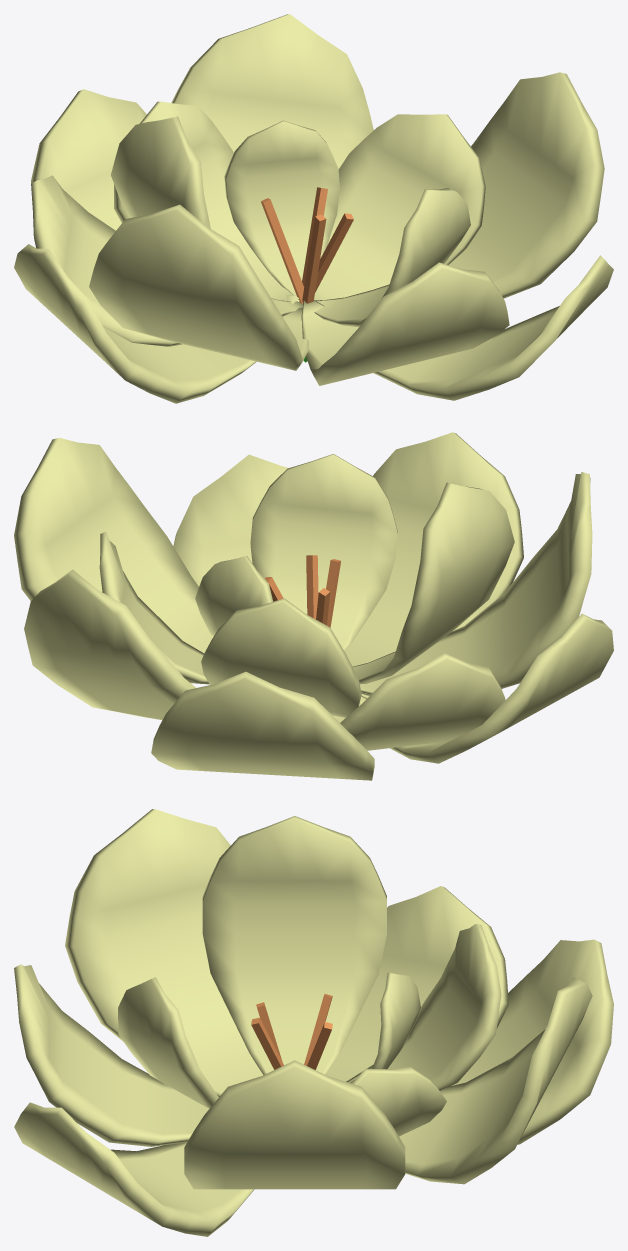
File: jasmine.fbx
The picture shows the model from 3 angles, top to bottom: view 1: azimuth 30°, elevation 25°; view 2: azimuth 150°, elevation 25°; view 3: azimuth 270°, elevation 25°; orthographic projection. The views are drawn at different scales.
Visible parts, largest first — view 1: Cube.001, Cube.008, Cube.003, Cube.004, Cube.005, Cube.009, Cube.011, Cube.006, Cube.012, Cube, Cube.002, Cube.007 (+5 smaller); view 2: Cube.001, Cube.002, Cube.012, Cube.003, Cube.008, Cube.005, Cube, Cube.010, Cube.007, Cube.011, Cube.006, Cube.004 (+3 smaller); view 3: Cube, Cube.008, Cube.001, Cube.005, Cube.003, Cube.006, Cube.012, Cube.007, Cube.010, Cube.002, Cube.004, Cube.009 (+1 smaller).
Part boxes in pixels (<box>): Cube.001: <box>449,72,604,298</box>; Cube.008: <box>89,204,308,370</box>; Cube.003: <box>171,14,373,301</box>; Cube.004: <box>314,114,485,300</box>; Cube.005: <box>301,262,509,385</box>; Cube.009: <box>224,120,339,295</box>; Cube.011: <box>14,244,256,403</box>; Cube.006: <box>373,255,613,400</box>; Cube.012: <box>31,89,302,307</box>; Cube: <box>111,116,302,315</box>; Cube.002: <box>314,188,470,327</box>; Cube.007: <box>31,175,298,346</box>; Cube.001: <box>14,438,213,684</box>; Cube.002: <box>250,454,397,650</box>; Cube.012: <box>151,671,374,780</box>; Cube.003: <box>24,569,195,720</box>; Cube.008: <box>360,472,592,694</box>; Cube.005: <box>344,432,523,666</box>; Cube: <box>352,482,514,684</box>; Cube.010: <box>201,598,361,717</box>; Cube.007: <box>332,653,505,750</box>; Cube.011: <box>361,613,613,763</box>; Cube.006: <box>173,454,288,586</box>; Cube.004: <box>99,531,209,684</box>; Cube: <box>202,816,386,1074</box>; Cube.008: <box>65,809,262,1096</box>; Cube.001: <box>184,1060,405,1189</box>; Cube.005: <box>14,964,218,1146</box>; Cube.003: <box>399,977,592,1184</box>; Cube.006: <box>14,1102,254,1236</box>; Cube.012: <box>451,939,613,1144</box>; Cube.007: <box>326,886,508,1081</box>; Cube.010: <box>346,924,501,1090</box>; Cube.002: <box>118,977,218,1108</box>; Cube.004: <box>352,1066,446,1136</box>; Cube.009: <box>349,973,420,1083</box>.
Size of the model in its own units: 745 by 376 by 718.
